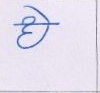e_matra: (23, 5, 53, 23)
